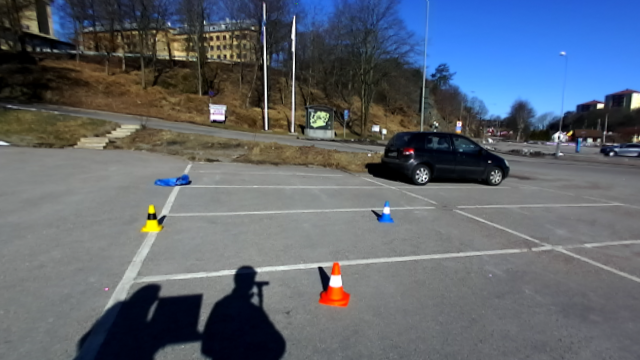blue: (376, 201, 394, 224)
orange: (318, 262, 352, 307)
yellow: (140, 204, 163, 233)
